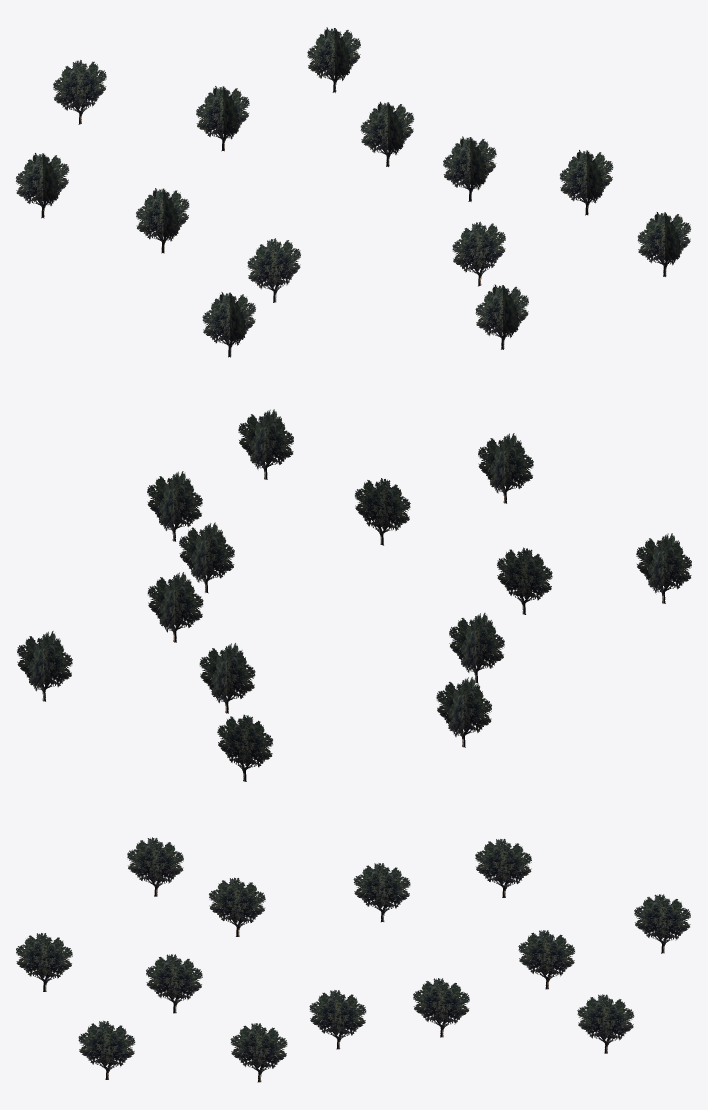
File: planeTree02.FBX
The picture shows the model from 3 angles, top to bottom: view 1: azimuth 30°, elevation 25°; view 2: azimuth 150°, elevation 25°; view 3: azimuth 270°, elevation 25°; orthographic projection. The views are drawn at different scales.
Parts seen in each view (by area): view 1: planeTree02; view 2: planeTree02; view 3: planeTree02.
Boxes of the visible parts, <box> form: planeTree02: <box>16,27,690,357</box>; planeTree02: <box>17,409,691,781</box>; planeTree02: <box>16,837,690,1082</box>.
Bounding box in the file's own units: 3313 × 441 × 4499.
Materials: 1 (1 with a texture image).
